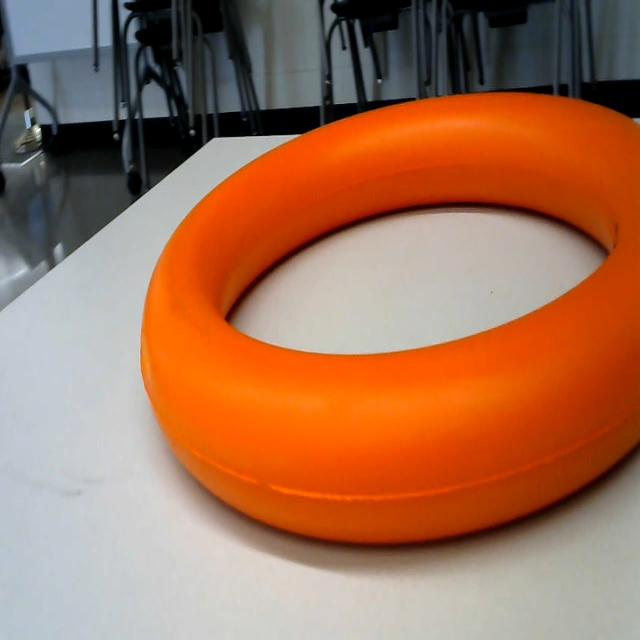note: (136, 80, 640, 557)
